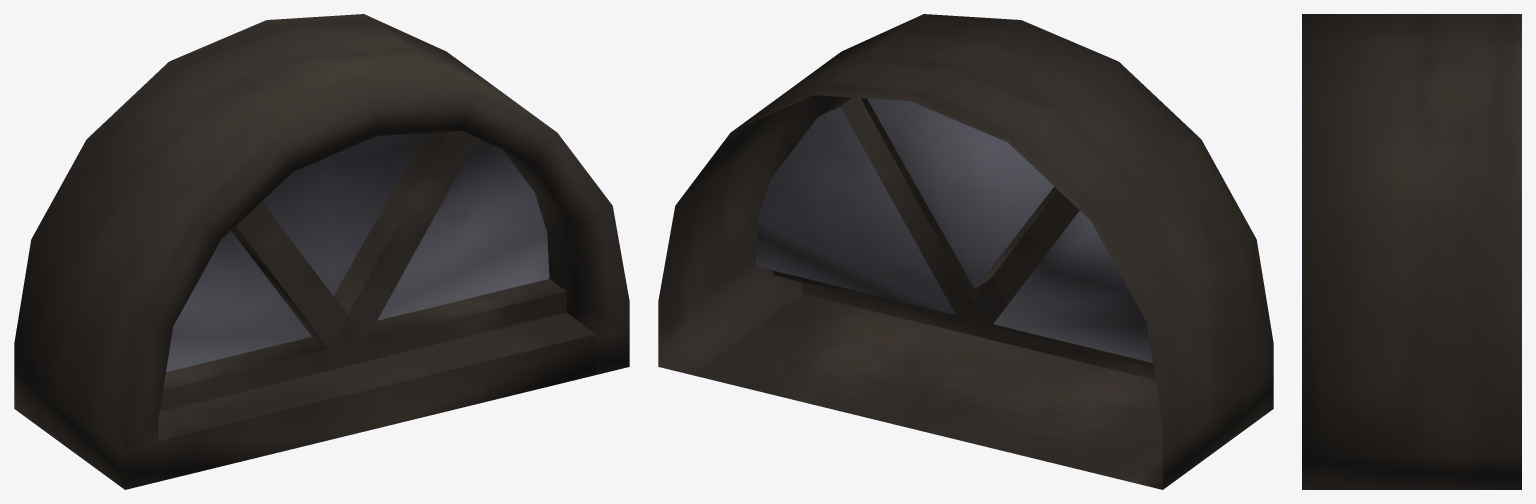
Rendered from Window2.fbx.
The picture shows the model from 3 angles, left to right: view 1: azimuth 30°, elevation 25°; view 2: azimuth 150°, elevation 25°; view 3: azimuth 270°, elevation 25°; orthographic projection.
Parts seen in each view (by area): view 1: Window2; view 2: Window2; view 3: Window2.
Part boxes in pixels (x1,y1,x2,y2): Window2: (14,14,629,489); Window2: (658,14,1273,489); Window2: (1302,14,1521,489).
Size of the model in its own units: 1.52 by 0.9407 by 0.5774.
